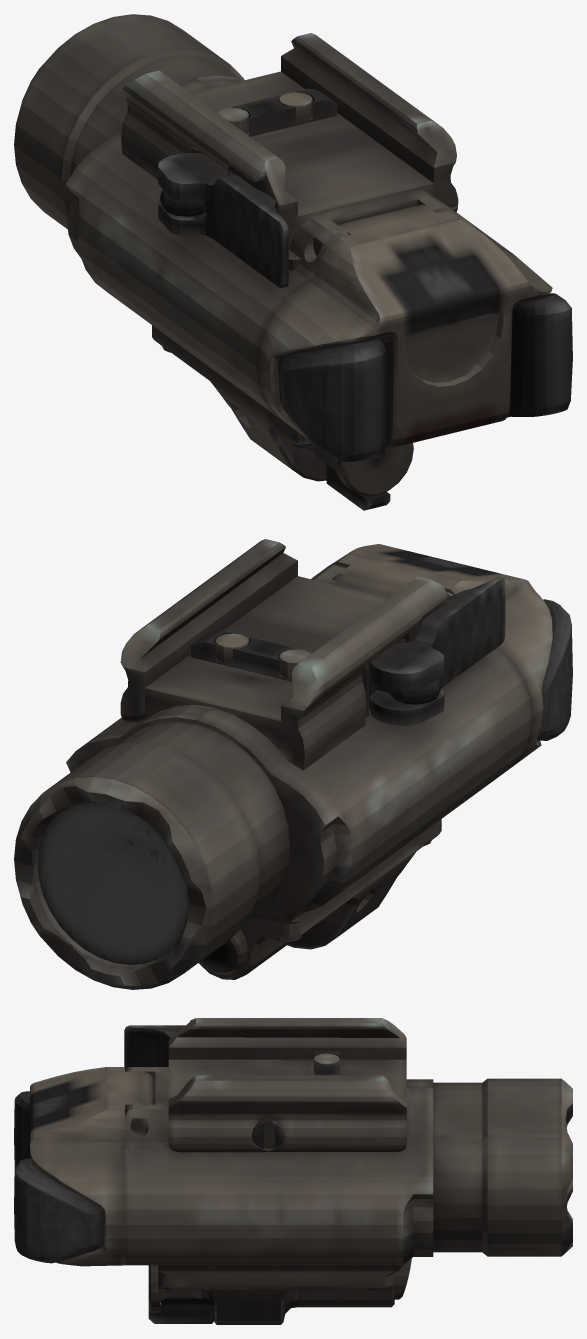
3 views of the same model, one above another, from view 1: azimuth 30°, elevation 25°; view 2: azimuth 150°, elevation 25°; view 3: azimuth 270°, elevation 25° (orthographic). The views are drawn at different scales.
Visible parts, largest first — view 1: TW_6272379924e29f06af4d5ecb_PZ_Import; view 2: TW_6272379924e29f06af4d5ecb_PZ_Import; view 3: TW_6272379924e29f06af4d5ecb_PZ_Import.
Part boxes in pixels (x1=…): TW_6272379924e29f06af4d5ecb_PZ_Import: x1=14, y1=14, x2=572, y2=510; TW_6272379924e29f06af4d5ecb_PZ_Import: x1=14, y1=539, x2=572, y2=989; TW_6272379924e29f06af4d5ecb_PZ_Import: x1=14, y1=1018, x2=572, y2=1324.
Size of the model in its own units: 0.0219 by 0.0494 by 0.0264.
Materials: 1 (1 with a texture image).
